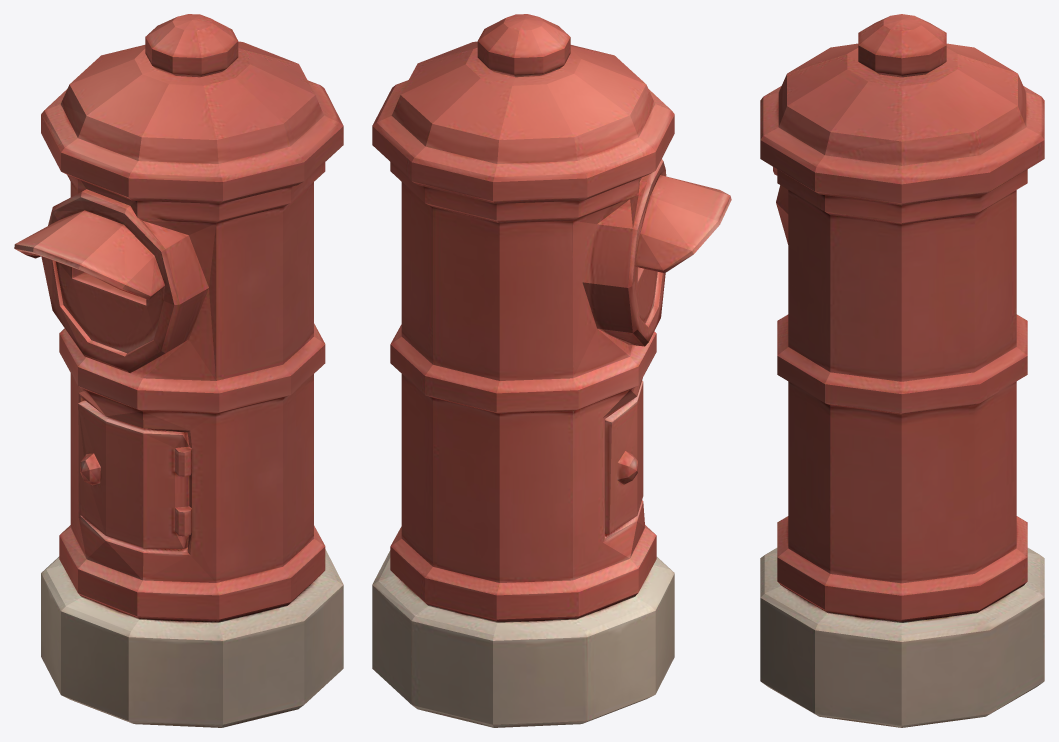
Rendered from postbox-KHH-JjEP.glb.
3 views of the same model, side by side, from view 1: azimuth 30°, elevation 25°; view 2: azimuth 150°, elevation 25°; view 3: azimuth 270°, elevation 25° (orthographic).
Parts seen in each view (by area): view 1: tripo_node_00382565-77a6-4ec6-ad14-6dffa74ce412; view 2: tripo_node_00382565-77a6-4ec6-ad14-6dffa74ce412; view 3: tripo_node_00382565-77a6-4ec6-ad14-6dffa74ce412.
Boxes of the visible parts, x1,y1,x2,y2 form: tripo_node_00382565-77a6-4ec6-ad14-6dffa74ce412: (14, 14, 343, 727); tripo_node_00382565-77a6-4ec6-ad14-6dffa74ce412: (372, 14, 731, 727); tripo_node_00382565-77a6-4ec6-ad14-6dffa74ce412: (760, 14, 1044, 727).
Bounding box in the file's own units: 0.4884 × 0.9789 × 0.3889.
Materials: 1 (1 with a texture image).
